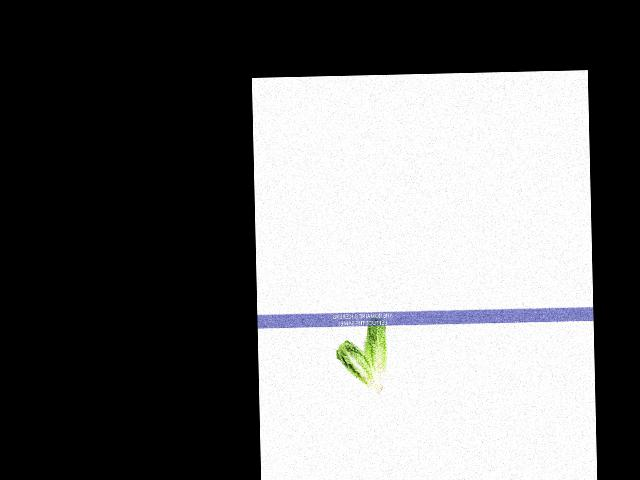lettuce: (338, 336, 383, 402)
